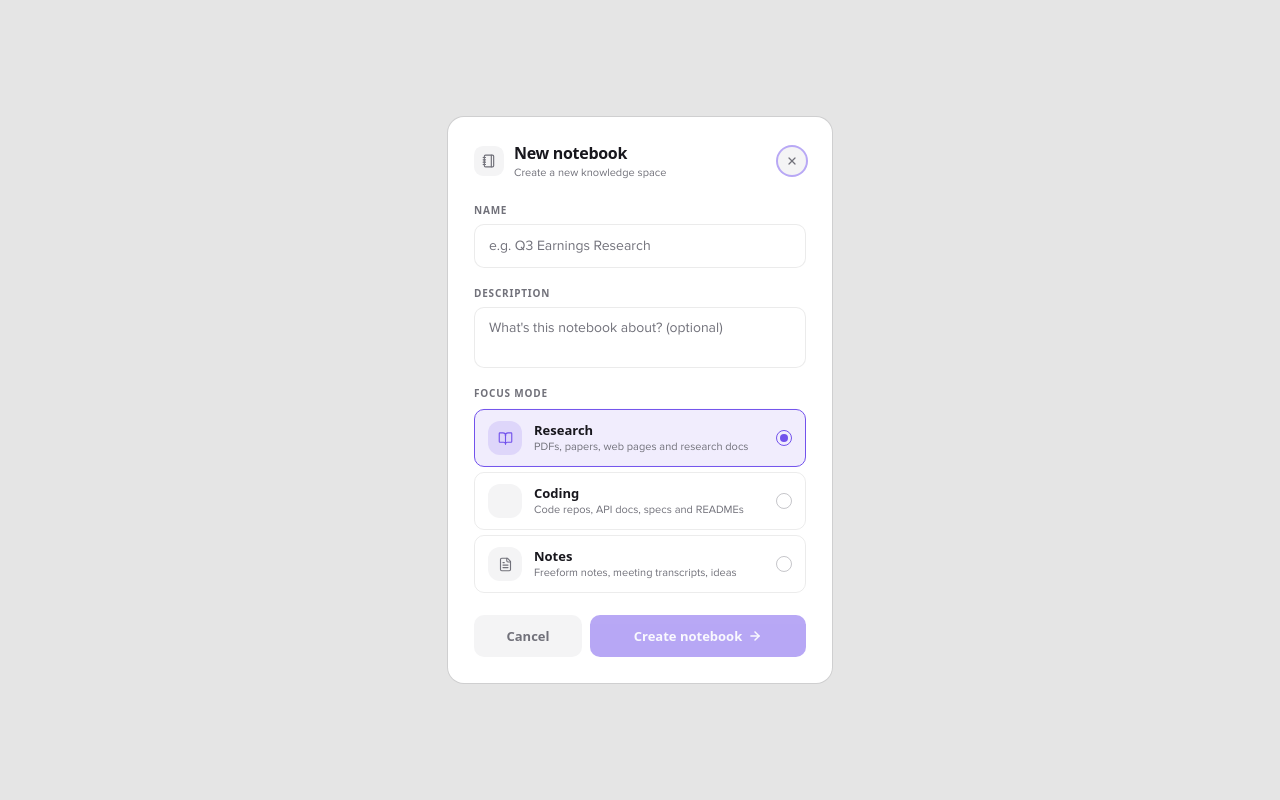
it: NotebookCreateDialog — Create action › falls back to a generic inline error when the action returns null with no store error
This screenshot has width=1280, height=800.
In the field labelled "Name": (640, 246) [474,224,806,268], type "Test"
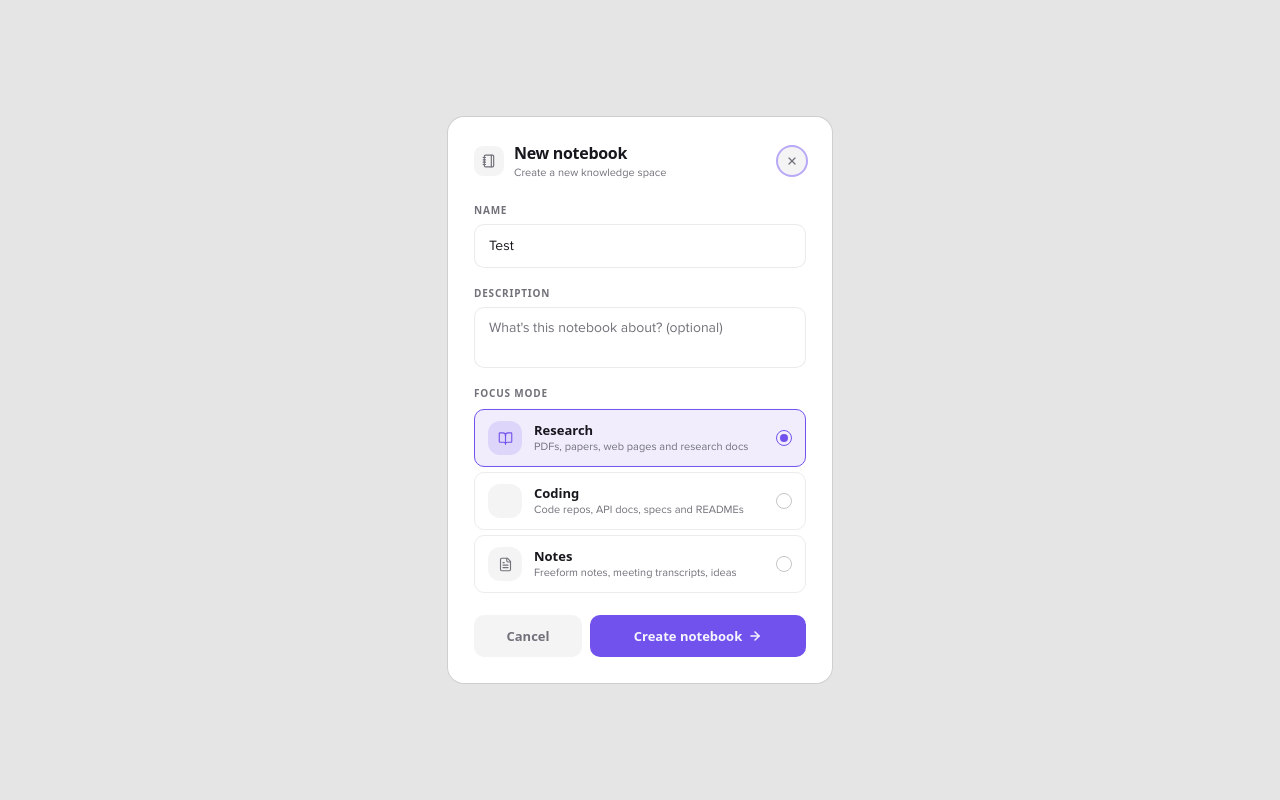
Click the button "Create notebook": (698, 636) [590,615,806,657]
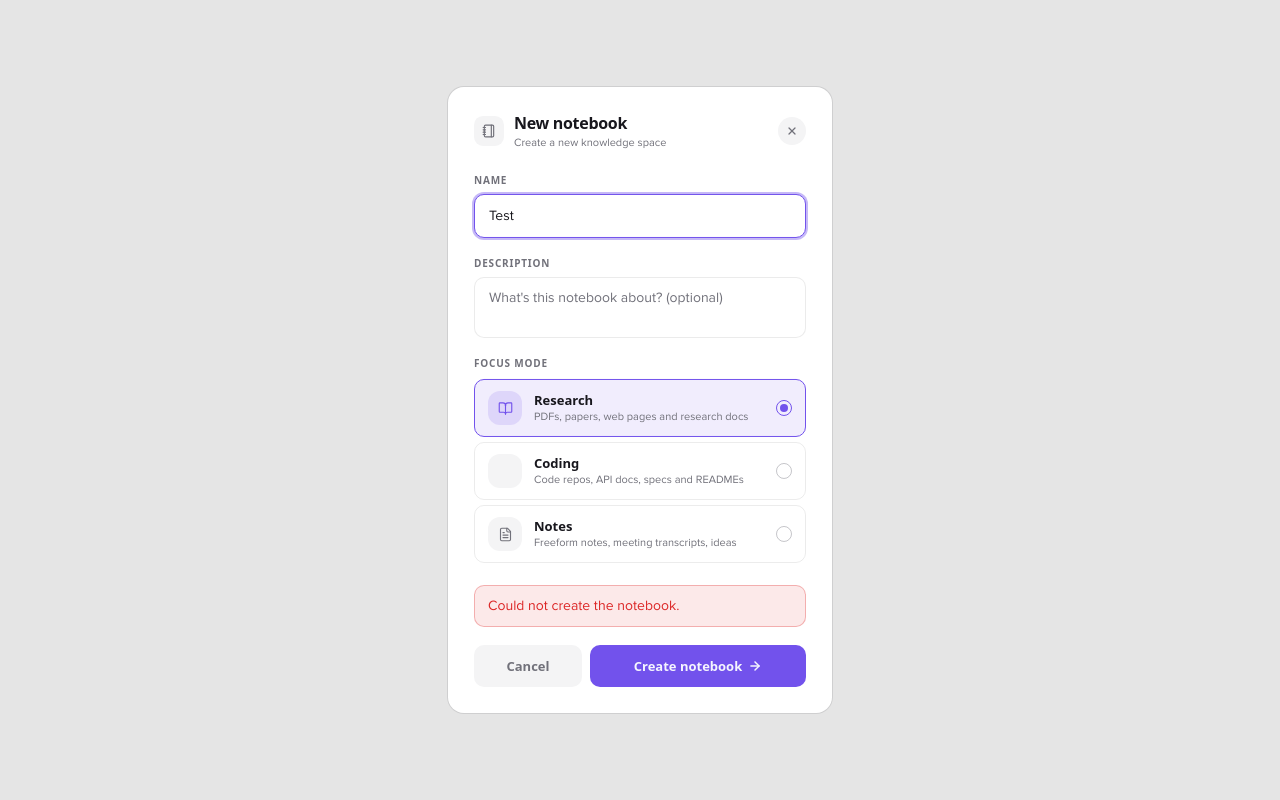
Result: the message "Could not create the notebook." is shown at [474,585,806,627]
Result: the text "Could not create the notebook." is shown at [488,596,679,616]
